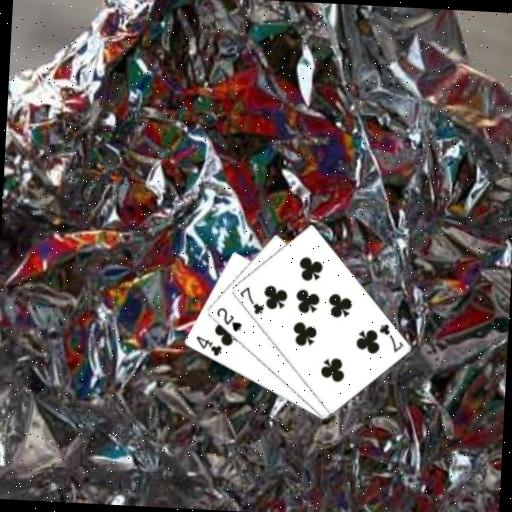2S: (212, 305, 244, 334)
4C: (192, 332, 224, 358)
7C: (235, 284, 267, 317), (375, 320, 406, 354)
